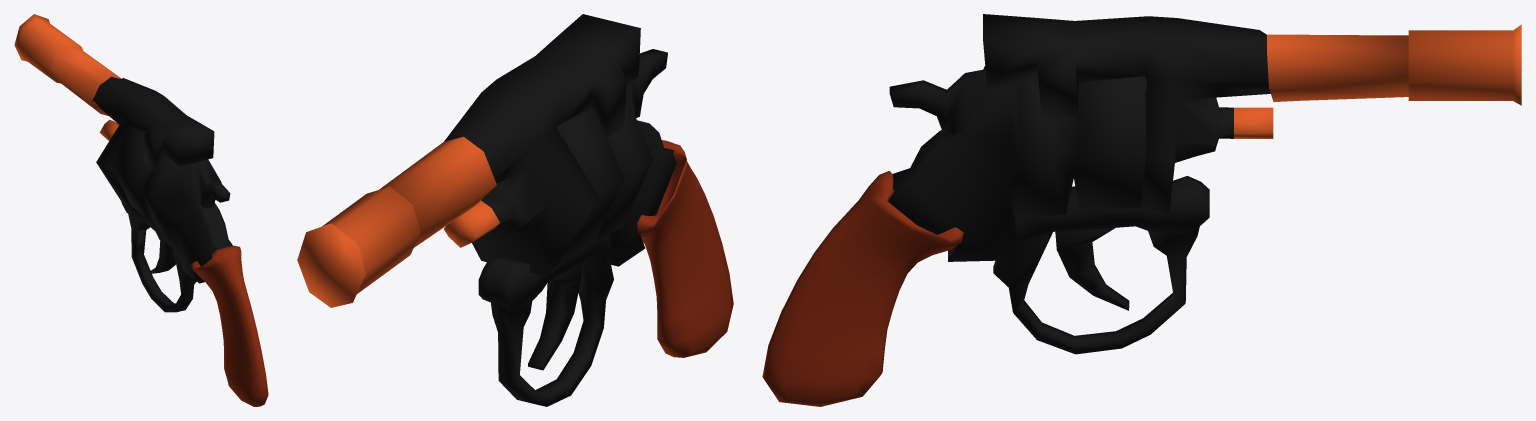
The model's file is toy popper gun.fbx.
The picture shows the model from 3 angles, left to right: view 1: azimuth 30°, elevation 25°; view 2: azimuth 150°, elevation 25°; view 3: azimuth 270°, elevation 25°; orthographic projection. The views are drawn at different scales.
Visible parts, largest first — view 1: GUN; view 2: GUN; view 3: GUN.
Boxes of the visible parts, bbox=[...] form: GUN: bbox=[14, 14, 268, 406]; GUN: bbox=[297, 14, 733, 406]; GUN: bbox=[762, 14, 1521, 406].
Bounding box in the file's own units: 54.04 × 138 × 250.
